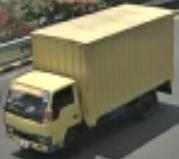truck: (1, 66, 89, 157)
